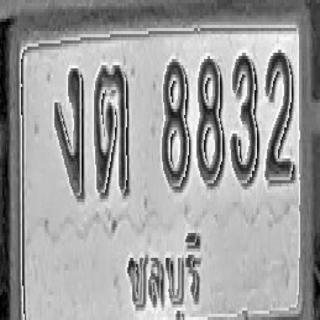A07: (54, 65, 85, 199)
A21: (94, 62, 130, 196)
N02: (266, 48, 294, 182)
N03: (230, 51, 259, 185)
N08: (162, 56, 190, 190), (196, 54, 224, 185)
P13: (121, 223, 205, 320)
